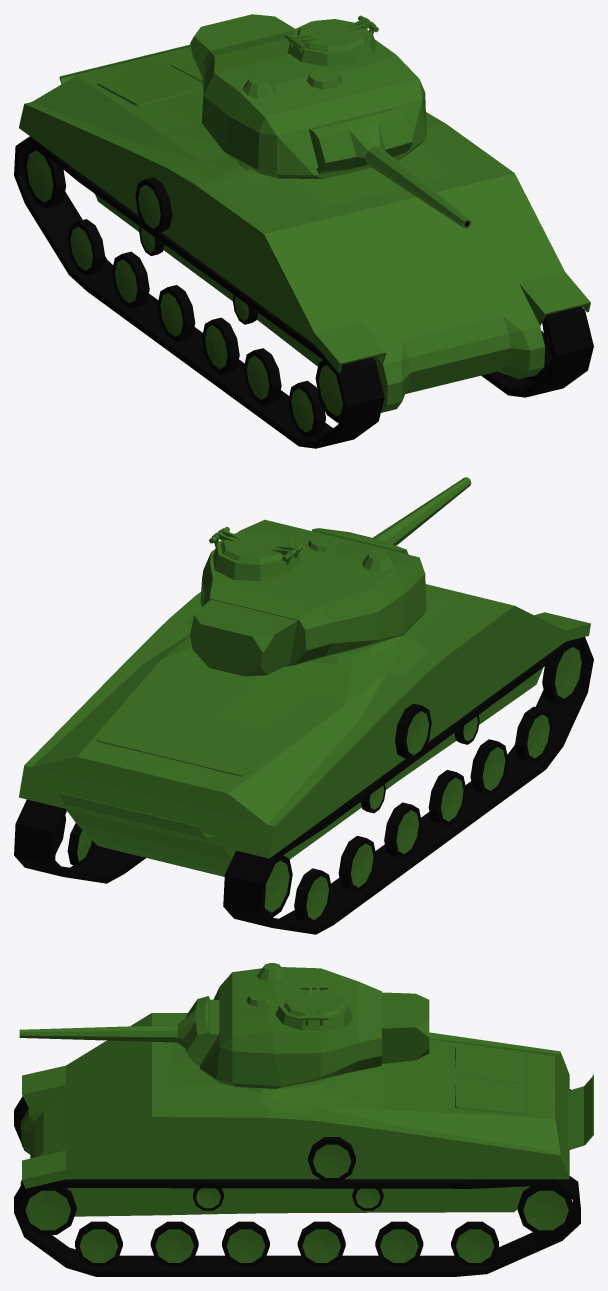
3 views of the same model, one above another, from view 1: azimuth 30°, elevation 25°; view 2: azimuth 150°, elevation 25°; view 3: azimuth 270°, elevation 25° (orthographic). The views are drawn at different scales.
Visible parts, largest first — view 1: Plane.015, Cylinder.003, Plane.016, Plane.017, Plane.018, Plane.019; view 2: Plane.015, Cylinder.003, Plane.016, Plane.017, Plane.018, Plane.019; view 3: Plane.015, Cylinder.003, Plane.016, Plane.017, Plane.019, Plane.018.
Boxes of the visible parts, left/top/right/bottom form: Plane.015: left=19, top=44, right=590, bottom=412; Cylinder.003: left=14, top=136, right=593, bottom=448; Plane.016: left=190, top=14, right=426, bottom=178; Plane.017: left=311, top=109, right=471, bottom=228; Plane.018: left=289, top=21, right=349, bottom=51; Plane.019: left=315, top=18, right=373, bottom=49; Plane.015: left=19, top=584, right=590, bottom=876; Cylinder.003: left=14, top=637, right=593, bottom=934; Plane.016: left=190, top=519, right=426, bottom=676; Plane.017: left=312, top=477, right=471, bottom=554; Plane.018: left=238, top=532, right=298, bottom=562; Plane.019: left=214, top=529, right=272, bottom=560; Plane.015: left=20, top=1013, right=593, bottom=1216; Cylinder.003: left=14, top=1089, right=580, bottom=1276; Plane.016: left=194, top=963, right=429, bottom=1088; Plane.017: left=19, top=996, right=209, bottom=1065; Plane.019: left=283, top=1002, right=345, bottom=1020; Plane.018: left=285, top=984, right=344, bottom=1004.
Size of the model in its own units: 295 by 297 by 648.
